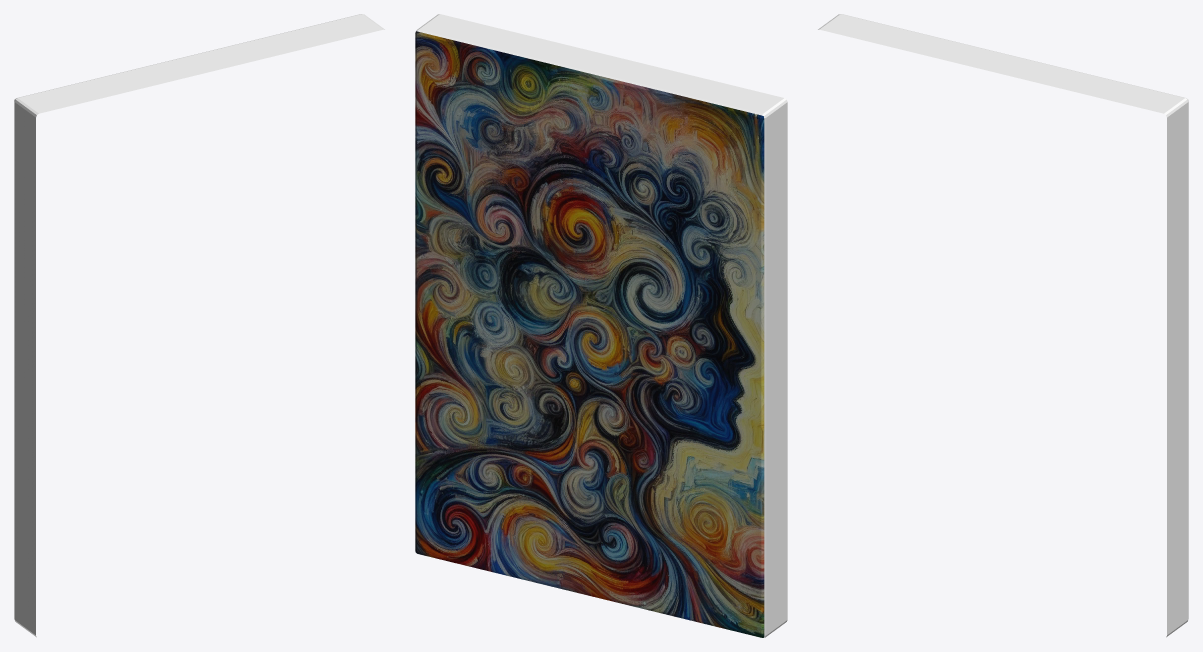
The model's file is Painting3.glb.
3 renders of one model, left to right at view 1: azimuth 30°, elevation 25°; view 2: azimuth 150°, elevation 25°; view 3: azimuth 330°, elevation 25°, orthographic.
Parts seen in each view (by area): view 1: SM_Frame_1_4; view 2: SM_Frame_1_4; view 3: SM_Frame_1_4.
Boxes of the visible parts, box(x1,y1,x2,y2) form: SM_Frame_1_4: box(14, 14, 384, 637); SM_Frame_1_4: box(415, 14, 787, 637); SM_Frame_1_4: box(818, 14, 1188, 637).
Size of the model in its own units: 0.35 by 0.5 by 0.04.
Materials: 2 (1 with a texture image).
